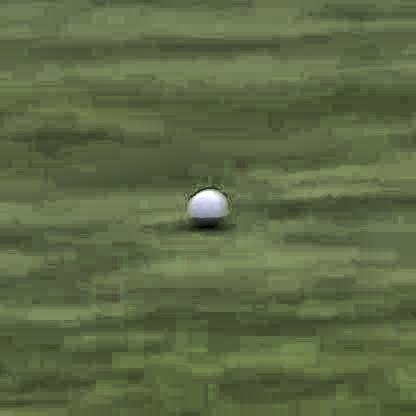golfball: (186, 183, 228, 227)
